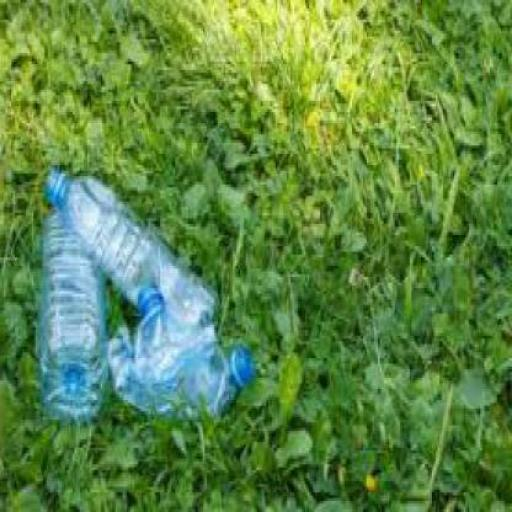plastic: (47, 165, 219, 338), (39, 201, 112, 417), (112, 319, 255, 422), (92, 213, 166, 319)
